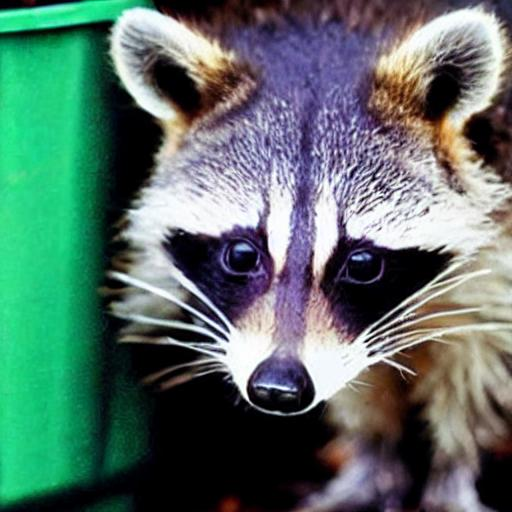raccoon: (98, 2, 512, 512)
